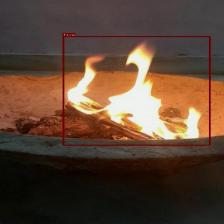fire: (63, 36, 210, 145)
